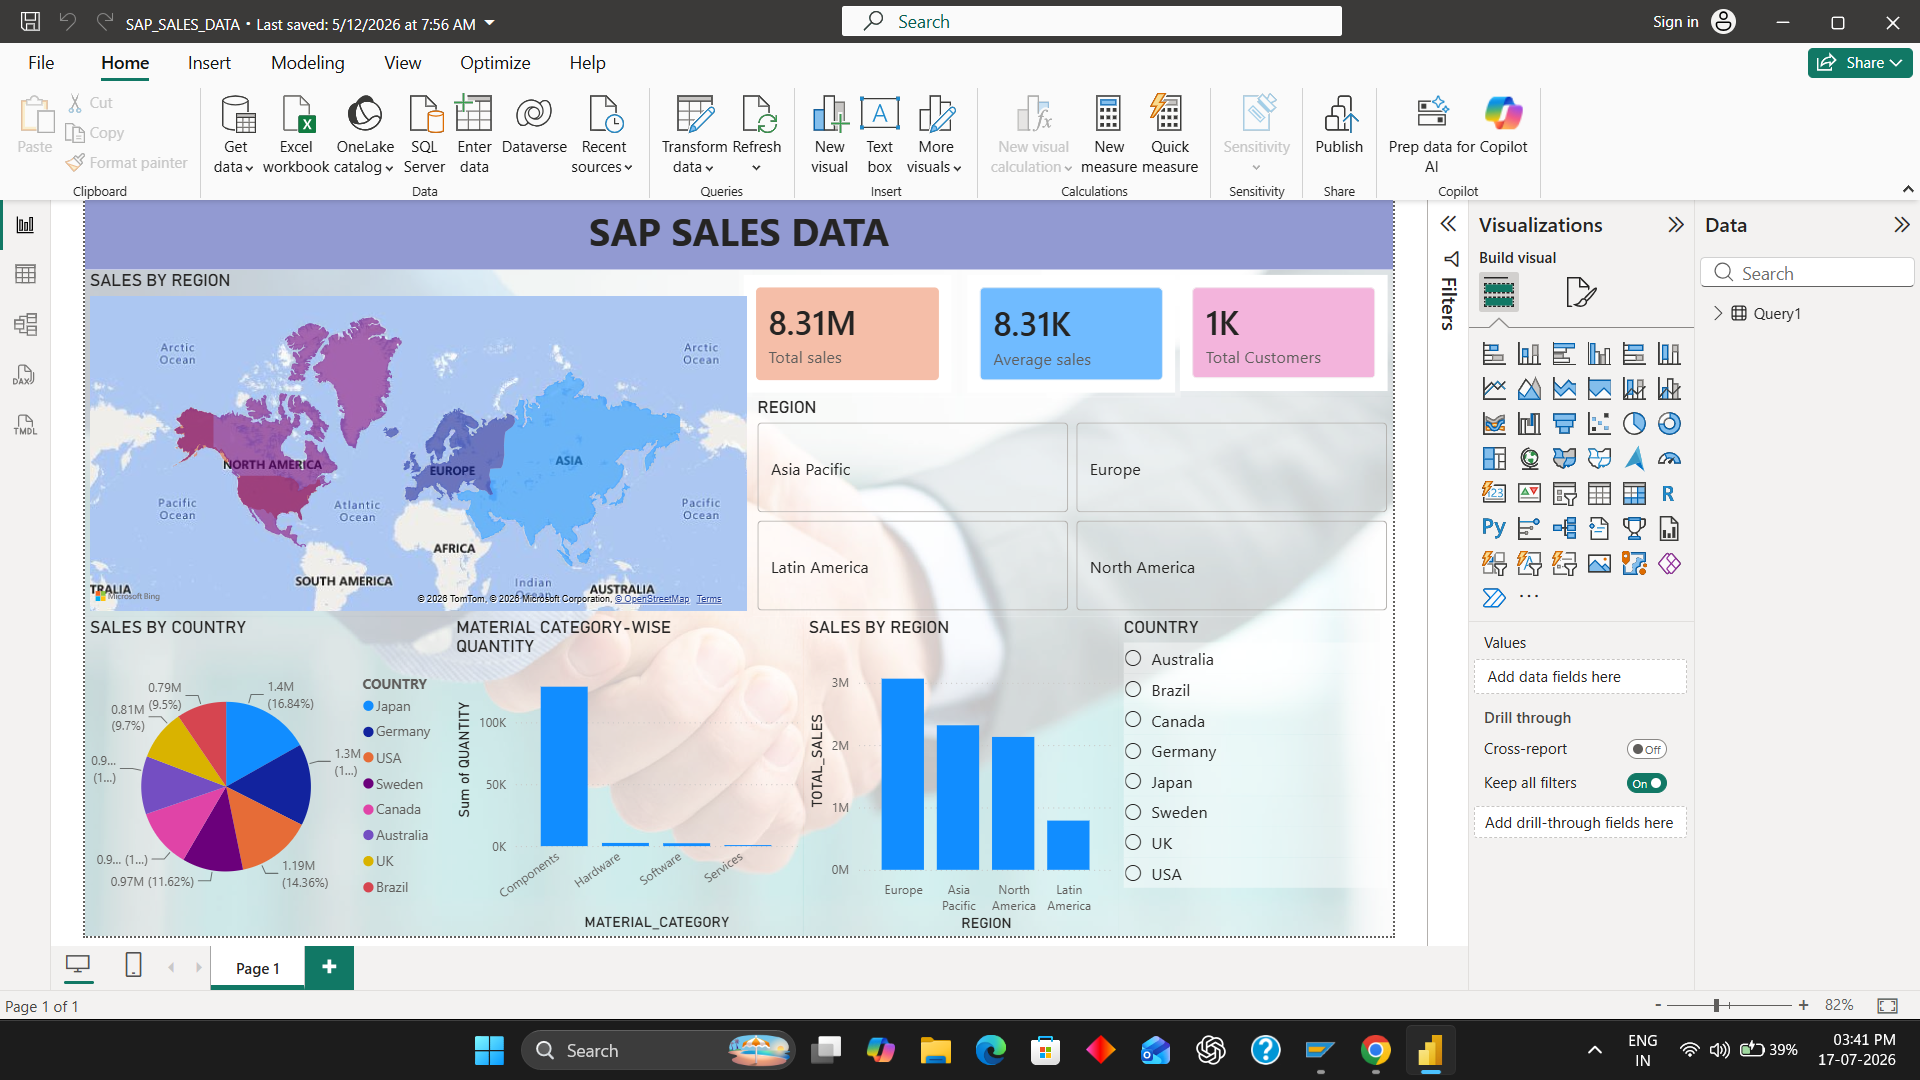

The page's visual inventory and layout, read from the dashboard file:
{"tool":"powerbi","page":{"name":"Page 1","canvas":[1280,720],"ordinal":0},"visuals":[{"type":"image","box":[0,68.3,1280,651.7],"z":0},{"type":"textbox","box":[0,0,1280,68.3],"z":1000},{"type":"cardVisual","fields":{"Data":["Query1.TOTAL_SALES"]},"box":[640,68.3,213.3,125],"z":2000},{"type":"cardVisual","fields":{"Data":["Query1.TOTAL_CUSTOMERS"]},"box":[1066.7,68.3,213.3,123.3],"z":3000},{"type":"cardVisual","fields":{"Data":["Query1.AVERAGE_SALES"]},"box":[858.3,68.3,213.3,125],"z":4000},{"type":"columnChart","title":"SALES BY REGION","fields":{"Category":["Query1.REGION"],"Y":["Query1.TOTAL_SALES"]},"box":[703.1,407.2,308.2,313],"z":5000},{"type":"pieChart","title":"SALES BY COUNTRY","fields":{"Category":["Query1.COUNTRY"],"Y":["Query1.TOTAL_SALES"]},"box":[0,407.1,358.6,312.9],"z":6000},{"type":"lineClusteredColumnComboChart","title":"MATERIAL CATEGORY-WISE QUANTITY","fields":{"Category":["Query1.MATERIAL_CATEGORY"],"Y":["Sum(Query1.QUANTITY)"]},"box":[358.6,407.1,344.3,312.9],"z":7000},{"type":"advancedSlicerVisual","fields":{"Values":["Query1.REGION"]},"box":[652.9,191.4,627.1,215.7],"z":8000},{"type":"listSlicer","fields":{"Values":["Query1.COUNTRY"]},"box":[1011.4,407.1,268.6,312.9],"z":9000},{"type":"filledMap","title":"SALES BY REGION","fields":{"Series":["Query1.REGION"],"Category":["Query1.REGION"]},"box":[0,68.6,652.9,338.6],"z":10000}]}

Visuals, with their boxes in screenshot pixels (x1, y1, x2, y2):
image: x1=75 y1=41 x2=1919 y2=1005
textbox: x1=75 y1=0 x2=1919 y2=41
cardVisual - Query1.TOTAL_SALES: x1=1022 y1=41 x2=1337 y2=226
cardVisual - Query1.TOTAL_CUSTOMERS: x1=1653 y1=41 x2=1919 y2=223
cardVisual - Query1.AVERAGE_SALES: x1=1345 y1=41 x2=1660 y2=226
"SALES BY REGION" columnChart: x1=1115 y1=542 x2=1571 y2=1005
"SALES BY COUNTRY" pieChart: x1=75 y1=542 x2=605 y2=1005
"MATERIAL CATEGORY-WISE QUANTITY" lineClusteredColumnComboChart: x1=605 y1=542 x2=1115 y2=1005
advancedSlicerVisual - Query1.REGION: x1=1041 y1=223 x2=1919 y2=542
listSlicer - Query1.COUNTRY: x1=1571 y1=542 x2=1919 y2=1005
"SALES BY REGION" filledMap: x1=75 y1=41 x2=1041 y2=542
